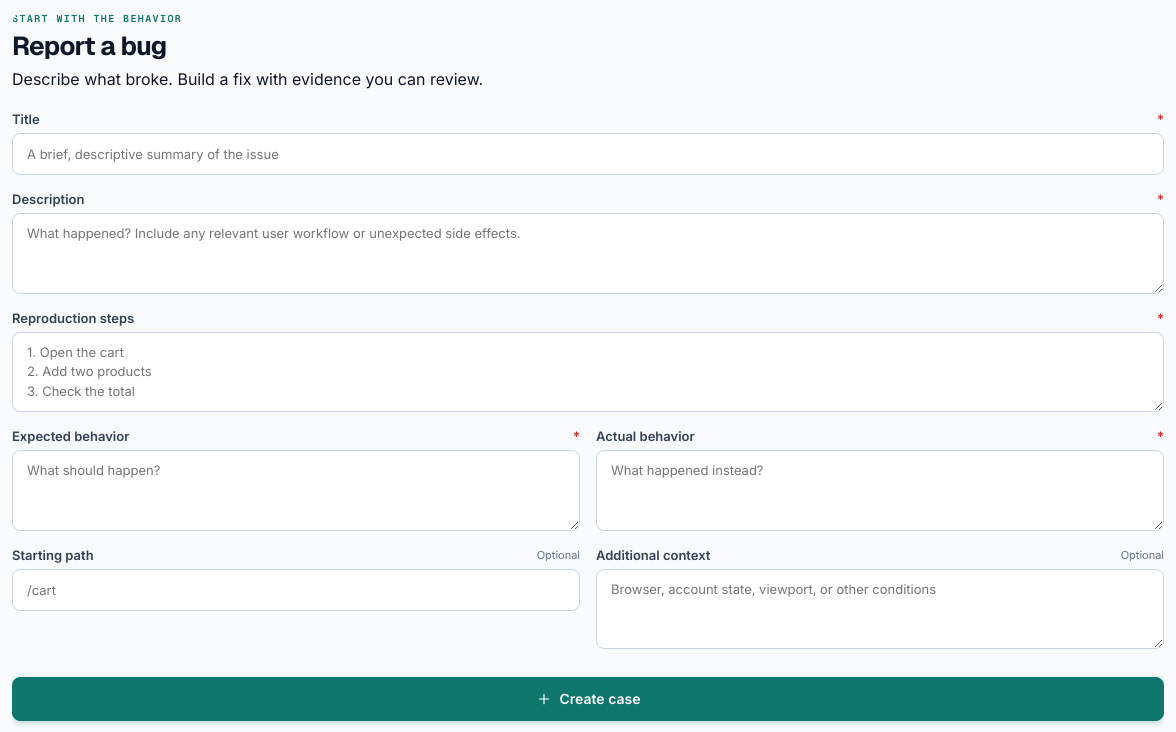
Scenario: BugReportForm structured reports › requires steps and both outcomes before creating a case
Step 1. Type "Cart total is wrong" into the field labelled "Title *" → (588, 154), box top-left (12, 133), bottom-right (1164, 175)
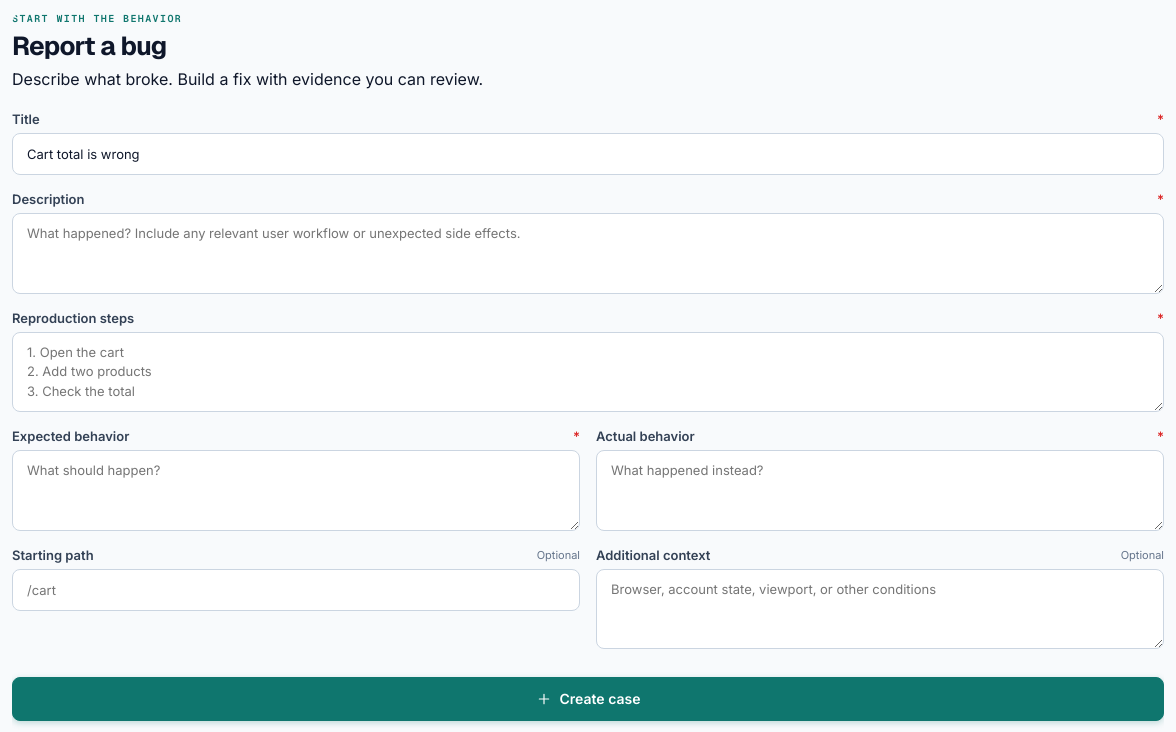
Step 2. Replace the text in the text box labelled "Description *" with "The total excludes products" → (588, 253), box top-left (12, 213), bottom-right (1164, 294)
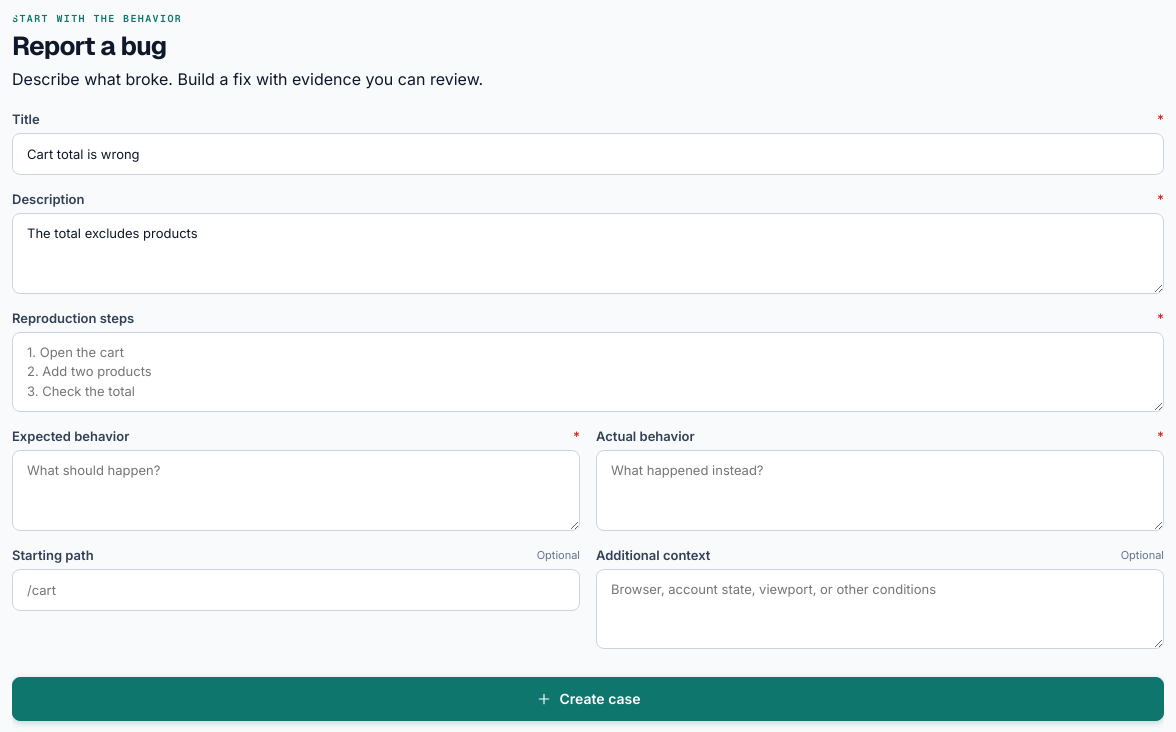
Step 3. Click the button "Create case" → (588, 698), box top-left (12, 676), bottom-right (1164, 720)
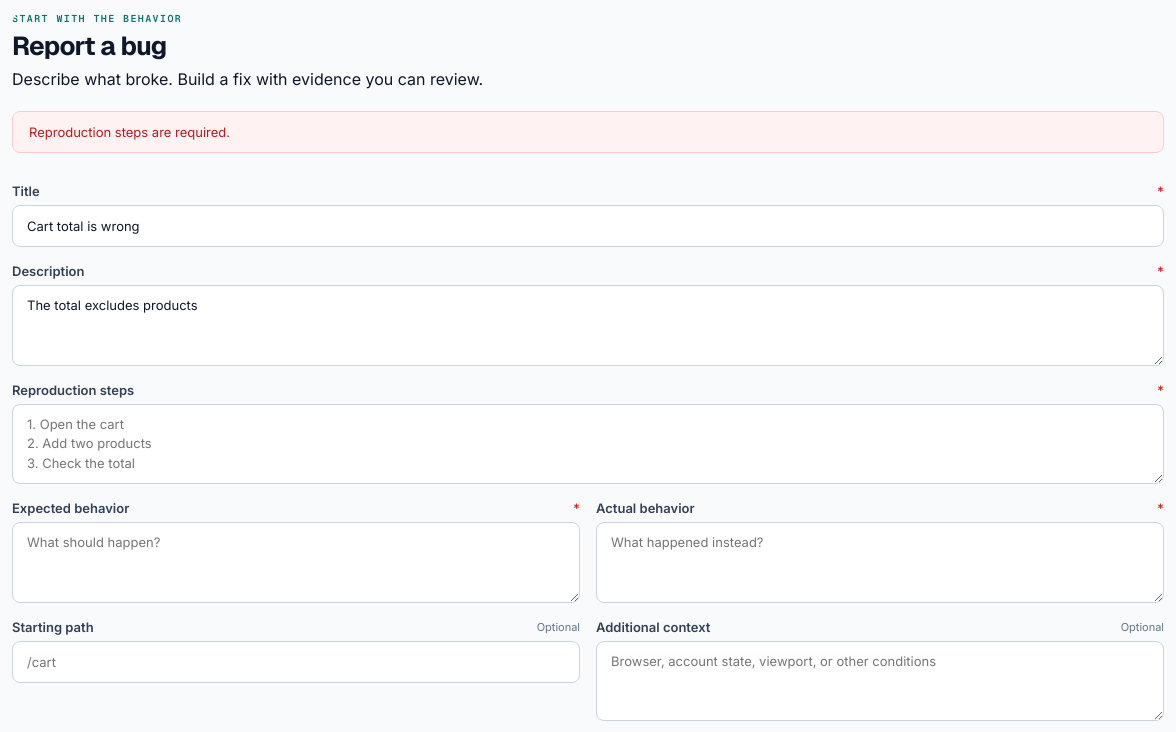
Now the message shows "Reproduction steps", box top-left (29, 124), bottom-right (230, 140)
